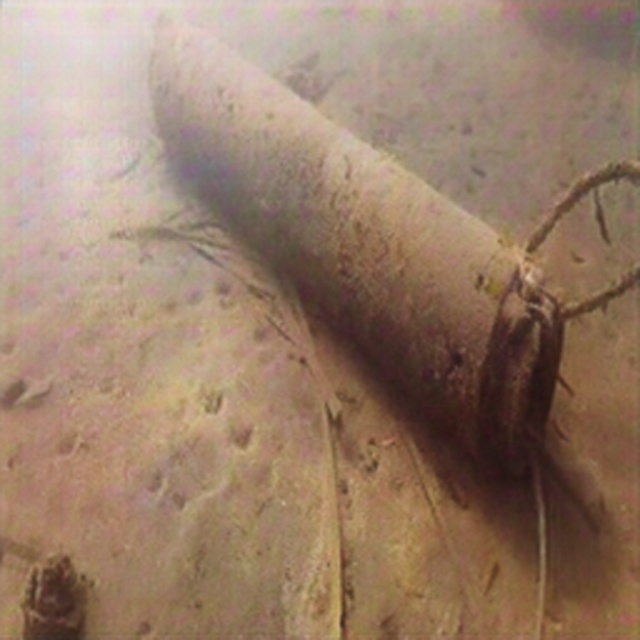mine: (147, 17, 565, 477)
